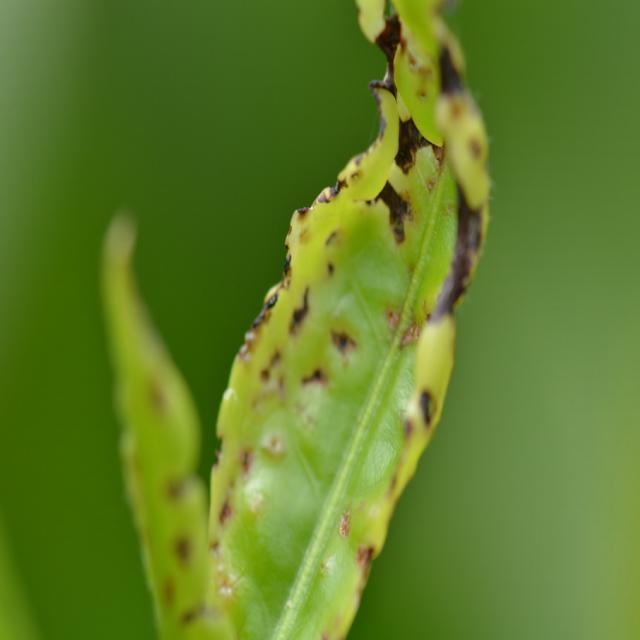Tea red scab: (231, 92, 472, 572)
